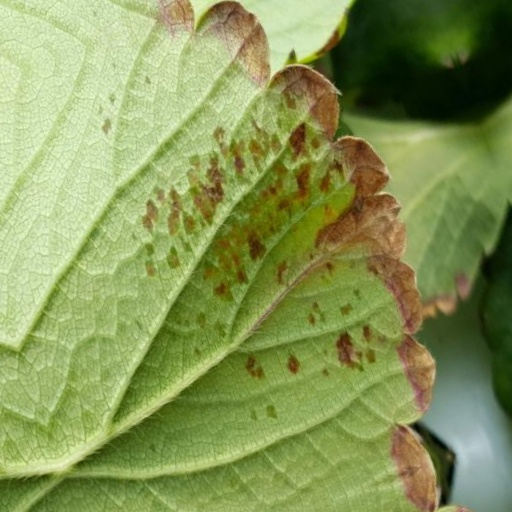Angular Leafspot: (110, 16, 399, 420)
